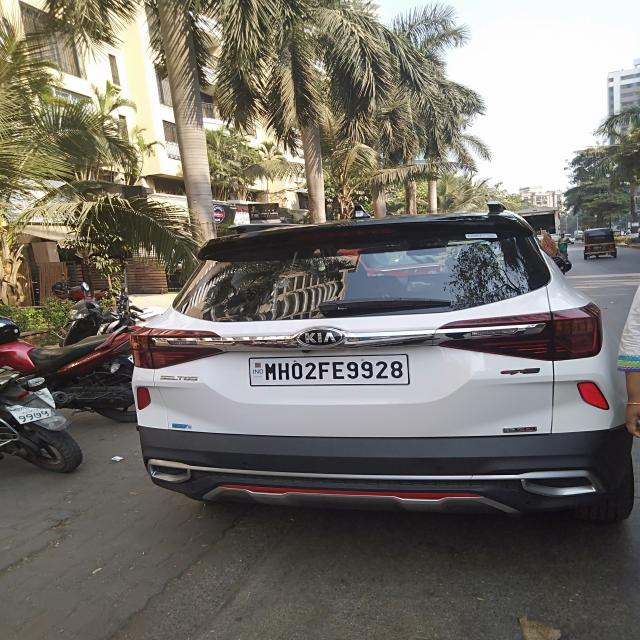Number-Plate: (248, 355, 411, 388)
